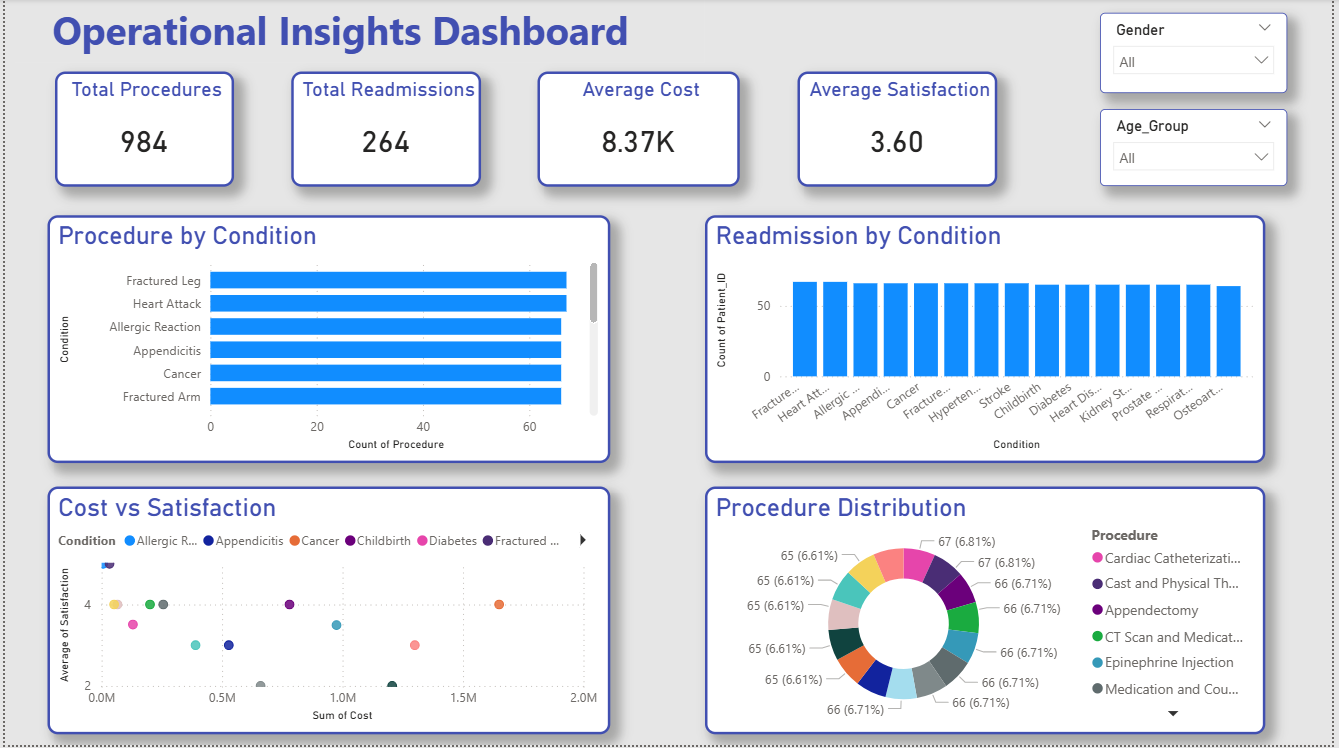

The dashboard page shown, as its layout file describes it:
{"tool":"powerbi","page":{"name":"Operational Insights","canvas":[1280,720],"ordinal":2},"visuals":[{"type":"textbox","box":[9.7,0,666,61.5],"z":0},{"type":"card","title":"Total Procedures","fields":{"Values":["Table1.Total Procedures"]},"box":[48.3,70,172.5,111],"z":1000},{"type":"card","title":"Total Readmissions","fields":{"Values":["Table1.Total Readmissions"]},"box":[275.9,70,183.4,111],"z":2000},{"type":"card","title":"Average Cost","fields":{"Values":["Table1.Average Cost"]},"box":[514.3,70,195.4,111],"z":3000},{"type":"card","title":"Average Satisfaction","fields":{"Values":["Table1.Average Satisfaction"]},"box":[764.9,70,193,111],"z":4000},{"type":"clusteredBarChart","title":"Procedure by Condition","fields":{"Category":["Table1.Condition"],"Y":["CountNonNull(Table1.Procedure)"]},"box":[41,208.7,542.9,238.9],"z":4001},{"type":"clusteredColumnChart","title":"Readmission by Condition","fields":{"Category":["Table1.Condition"],"Y":["CountNonNull(Table1.Patient_ID)"]},"box":[675.6,208.7,540.5,238.9],"z":4002},{"type":"scatterChart","title":"Cost vs Satisfaction","fields":{"X":["Sum(Table1.Cost)"],"Y":["Avg(Table1.Satisfaction)"],"Series":["Table1.Condition"]},"box":[41,470.5,542.9,238.9],"z":4003},{"type":"donutChart","title":"Procedure Distribution","fields":{"Category":["Table1.Procedure"],"Y":["CountNonNull(Table1.Patient_ID)"]},"box":[675.6,470.5,540.5,238.9],"z":4004},{"type":"slicer","fields":{"Values":["Table1.Gender"]},"box":[1056.8,13.3,181,77.2],"z":4005},{"type":"slicer","fields":{"Values":["Table1.Age_Group"]},"box":[1056.8,106.2,181,74.8],"z":4006}]}

Visuals, with their boxes in screenshot pixels (x1, y1, x2, y2), scaled from the page's 1280x720 canvas onto the 1339x748 screenshot:
textbox: [10, 0, 707, 64]
"Total Procedures" card: [51, 73, 231, 188]
"Total Readmissions" card: [289, 73, 480, 188]
"Average Cost" card: [538, 73, 742, 188]
"Average Satisfaction" card: [800, 73, 1002, 188]
"Procedure by Condition" clusteredBarChart: [43, 217, 611, 465]
"Readmission by Condition" clusteredColumnChart: [707, 217, 1272, 465]
"Cost vs Satisfaction" scatterChart: [43, 489, 611, 737]
"Procedure Distribution" donutChart: [707, 489, 1272, 737]
slicer - Table1.Gender: [1106, 14, 1295, 94]
slicer - Table1.Age_Group: [1106, 110, 1295, 188]
